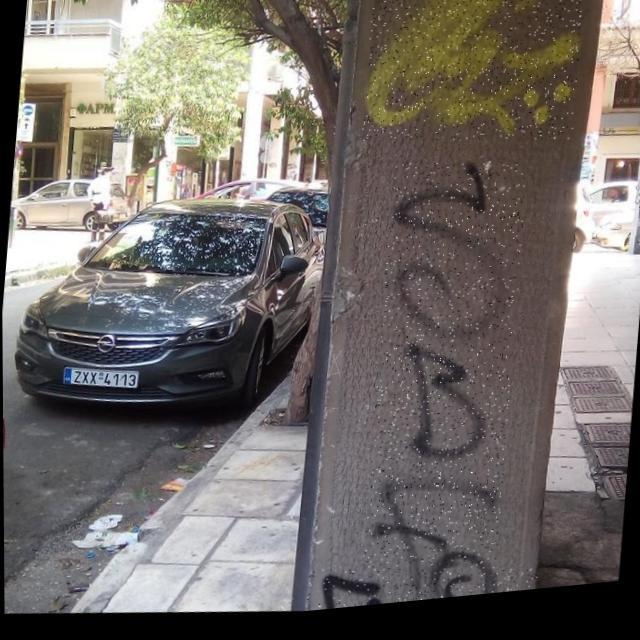-: (355, 160, 530, 613), (360, 0, 587, 166), (304, 558, 536, 618), (634, 100, 640, 258)
